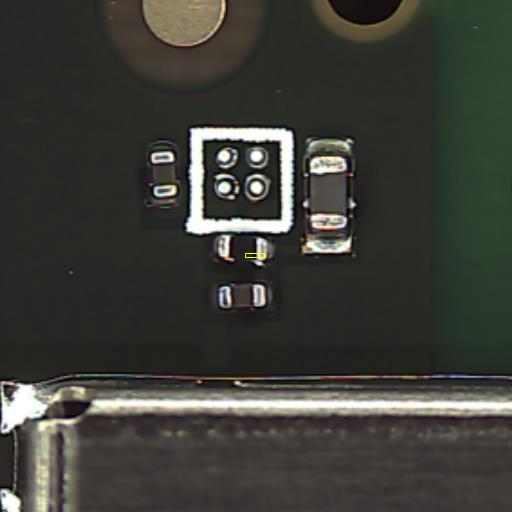bottom_layer: (303, 135, 355, 254), (145, 139, 180, 206), (212, 281, 274, 312), (214, 235, 275, 264)
top_layer: (310, 157, 348, 226), (218, 235, 267, 259), (151, 152, 177, 197), (219, 285, 266, 307)
